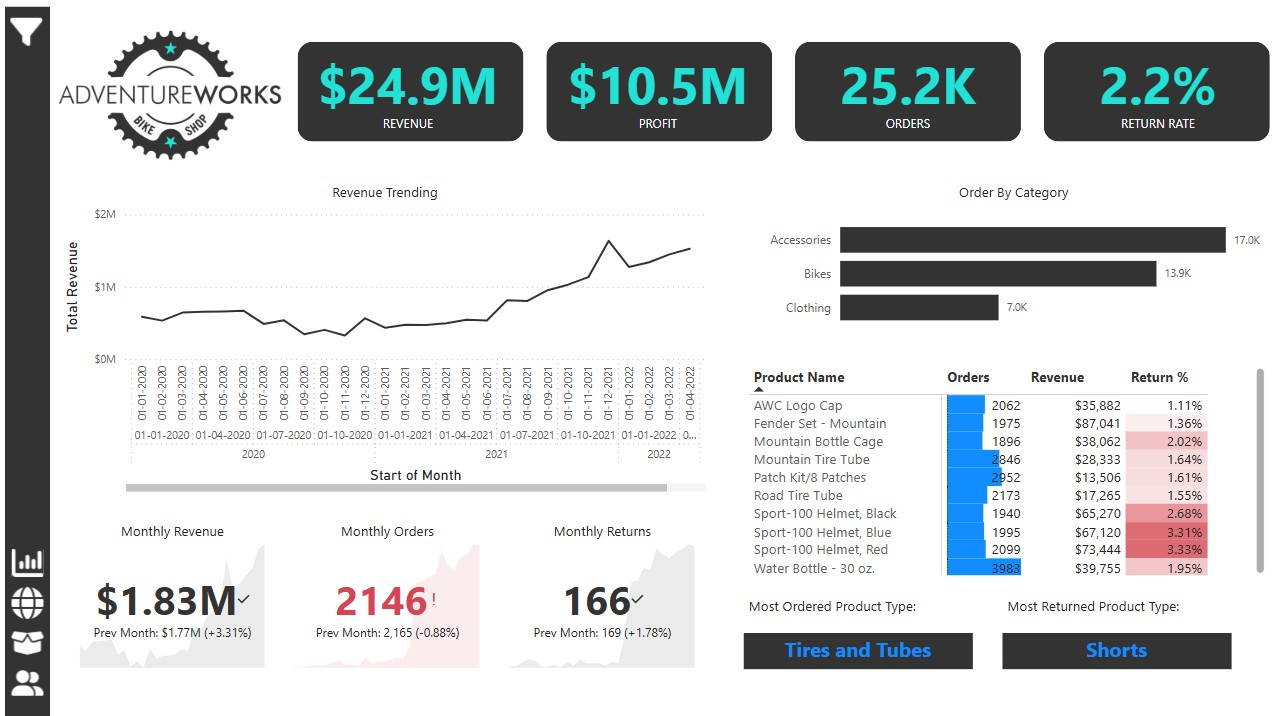

Layout of this report page (visuals, bound fields, positions):
{"tool":"powerbi","page":{"name":"Exec Dashboard","canvas":[1280,720],"ordinal":0},"visuals":[{"type":"image","title":"AW Logo","box":[34.8,14.9,279.9,174.2],"z":0},{"type":"card","fields":{"Values":["Measure Table.Total Profit"]},"box":[554.7,46,210.2,102],"z":0,"group":"g3"},{"type":"group","id":"g1","title":"KPI Backgrounds","box":[301,48.5,968.3,99.5],"z":0,"group":"g2"},{"type":"shape","box":[301,48.5,225.2,99.5],"z":0,"group":"g1"},{"type":"actionButton","box":[12.8,547.3,51,39.8],"z":0,"group":"g4"},{"type":"group","id":"g2","title":"KPIs","box":[301,46,968.3,102],"z":1000},{"type":"group","id":"g3","title":"KPI Values","box":[305.9,46,956.7,102],"z":1000,"group":"g2"},{"type":"card","fields":{"Values":["Measure Table.Total Revenue"]},"box":[305.9,46,210.2,102],"z":1000,"group":"g3"},{"type":"shape","box":[548.7,48.5,225.2,99.5],"z":1000,"group":"g1"},{"type":"actionButton","box":[12.8,587.1,51,39.8],"z":1000,"group":"g4"},{"type":"card","fields":{"Values":["Measure Table.Total Orders"]},"box":[803.5,46,210.2,102],"z":2000,"group":"g3"},{"type":"shape","box":[796.4,48.5,225.2,99.5],"z":2000,"group":"g1"},{"type":"lineChart","title":"Revenue Trending","fields":{"Y":["Measure Table.Total Revenue"],"Category":["Calendar Lookup.Year","Calendar Lookup.Start of Quarter","Calendar Lookup.Start of Month"]},"box":[63.4,189.1,649.3,312.2],"z":2000},{"type":"actionButton","box":[12.8,626.9,51,39.8],"z":2000,"group":"g4"},{"type":"card","fields":{"Values":["Measure Table.Return Rate"]},"box":[1052.3,46,210.2,102],"z":3000,"group":"g3"},{"type":"shape","box":[1044.1,48.5,225.2,99.5],"z":3000,"group":"g1"},{"type":"kpi","title":"Monthly Revenue","fields":{"Indicator":["Measure Table.Total Revenue"],"TrendLine":["Calendar Lookup.Start of Month"],"Goal":["Measure Table.Previous Month Revenue"]},"box":[79.6,526.2,194.1,150.5],"z":3000},{"type":"actionButton","box":[12.8,666.7,51,39.8],"z":3000,"group":"g4"},{"type":"kpi","title":"Monthly Orders","fields":{"TrendLine":["Calendar Lookup.Start of Month"],"Indicator":["Measure Table.Total Orders"],"Goal":["Measure Table.Previous Month Orders"]},"box":[293.6,526.2,194.1,150.5],"z":4000},{"type":"kpi","title":"Monthly Returns","fields":{"TrendLine":["Calendar Lookup.Start of Month"],"Indicator":["Measure Table.Total Returns"],"Goal":["Measure Table.Previous Month Reurn"]},"box":[507.5,526.2,194.1,150.5],"z":5000},{"type":"clusteredBarChart","title":"Order By Category","fields":{"Category":["Product Categories Lookup.CategoryName"],"Y":["Measure Table.Total Orders"]},"box":[761.3,189.1,505,156.7],"z":6000},{"type":"pivotTable","fields":{"Rows":["Product Lookup.ProductName"],"Values":["Measure Table.Total Orders","Measure Table.Total Revenue","Measure Table.Return Rate"]},"box":[745.1,368.2,523.7,216.4],"z":7000},{"type":"card","fields":{"Values":["Min(Product Subcategories Lookup.SubcategoryName)"]},"box":[745.1,636.9,227.6,36.1],"z":8000},{"type":"textbox","box":[745.1,595.9,227.6,29.9],"z":9000},{"type":"card","fields":{"Values":["Min(Product Subcategories Lookup.SubcategoryName)"]},"box":[1002.9,636.9,227.6,36.1],"z":10000},{"type":"textbox","box":[1002.9,595.9,227.6,29.9],"z":11000},{"type":"shape","box":[10,13.4,44.8,706.6],"z":12000},{"type":"group","id":"g4","title":"Navigation Buttons","box":[12.8,547.3,51,159.2],"z":13000},{"type":"actionButton","box":[11.2,18.7,58.5,39.8],"z":14000}]}

Visuals, with their boxes in screenshot pixels (x1, y1, x2, y2), scaled from the page's 1280x720 canvas onto the 1277x716 screenshot:
"AW Logo" image: (35,15,314,188)
card - Measure Table.Total Profit: (553,46,763,147)
"KPI Backgrounds" group: (300,48,1266,147)
shape: (300,48,525,147)
actionButton: (13,544,64,584)
"KPIs" group: (300,46,1266,147)
"KPI Values" group: (305,46,1260,147)
card - Measure Table.Total Revenue: (305,46,515,147)
shape: (547,48,772,147)
actionButton: (13,584,64,623)
card - Measure Table.Total Orders: (802,46,1011,147)
shape: (795,48,1019,147)
"Revenue Trending" lineChart: (63,188,711,499)
actionButton: (13,623,64,663)
card - Measure Table.Return Rate: (1050,46,1260,147)
shape: (1042,48,1266,147)
"Monthly Revenue" kpi: (79,523,273,673)
actionButton: (13,663,64,703)
"Monthly Orders" kpi: (293,523,487,673)
"Monthly Returns" kpi: (506,523,700,673)
"Order By Category" clusteredBarChart: (760,188,1263,344)
pivotTable - Product Lookup.ProductName x Measure Table.Total Orders: (743,366,1266,581)
card - Min(Product Subcategories Lookup.SubcategoryName): (743,633,970,669)
textbox: (743,593,970,622)
card - Min(Product Subcategories Lookup.SubcategoryName): (1001,633,1228,669)
textbox: (1001,593,1228,622)
shape: (10,13,55,715)
"Navigation Buttons" group: (13,544,64,703)
actionButton: (11,19,70,58)
